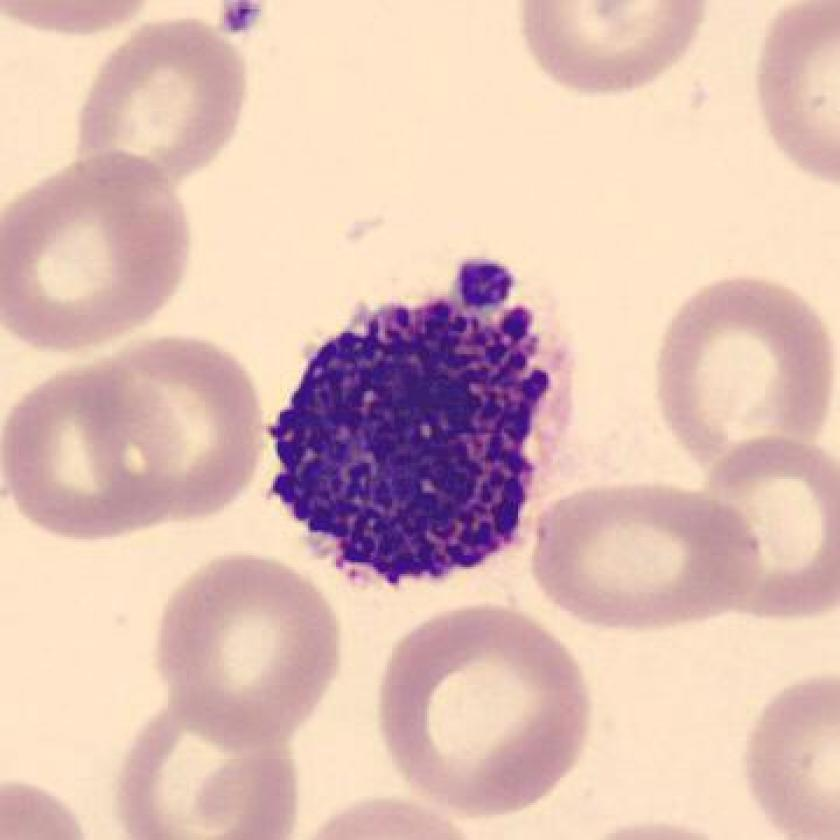basophil: (265, 270, 563, 608)
